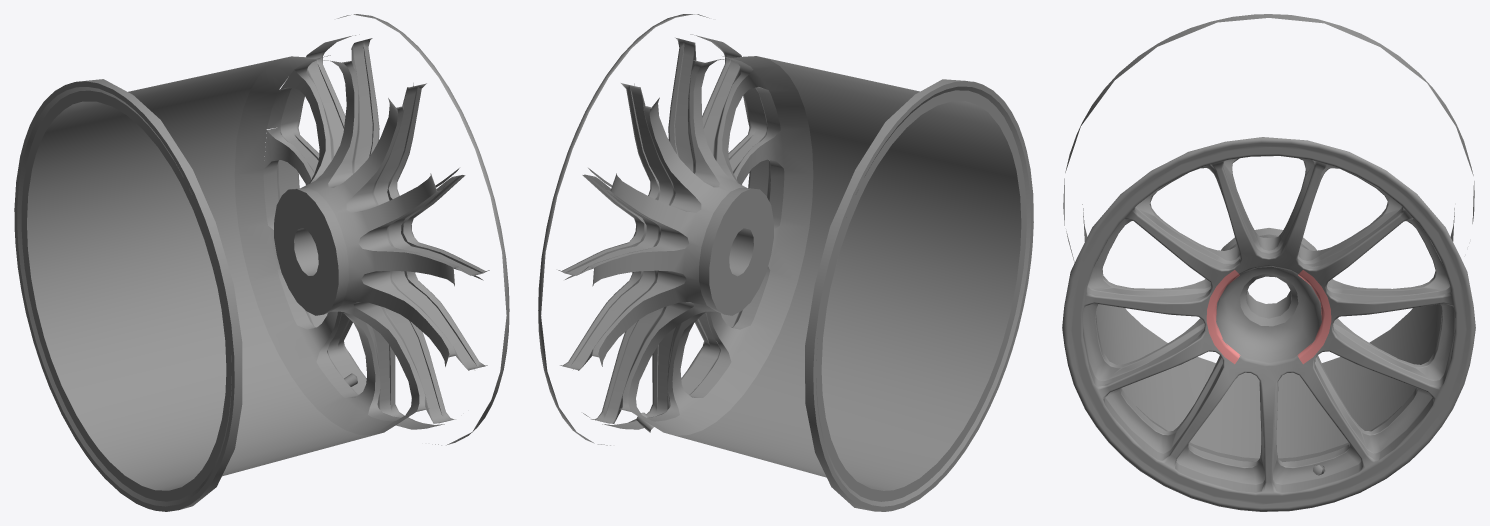
File: bentley_continental_gt3_2016_rim_lf_Lod1.gltf
3 renders of one model, left to right at view 1: azimuth 30°, elevation 25°; view 2: azimuth 150°, elevation 25°; view 3: azimuth 270°, elevation 25°, orthographic. The views are drawn at different scales.
Visible parts, largest first — view 1: bentley_continental_gt3_2016_rim_lf_Lod1; view 2: bentley_continental_gt3_2016_rim_lf_Lod1; view 3: bentley_continental_gt3_2016_rim_lf_Lod1.
Part boxes in pixels (bbox=[...]): bentley_continental_gt3_2016_rim_lf_Lod1: bbox=[14, 14, 509, 511]; bentley_continental_gt3_2016_rim_lf_Lod1: bbox=[538, 14, 1033, 511]; bentley_continental_gt3_2016_rim_lf_Lod1: bbox=[1062, 14, 1475, 511].
Bounding box in the file's own units: 0.3587 × 0.5004 × 0.5009.
